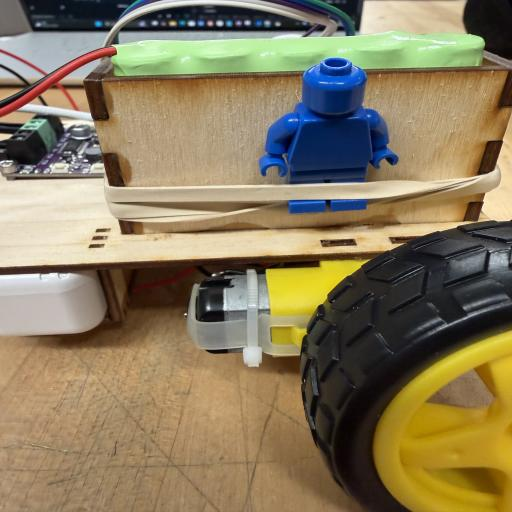Blue-Lego: (259, 57, 398, 184)
